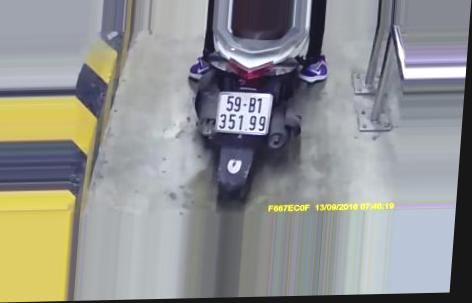License_Plate: (210, 87, 275, 139)
